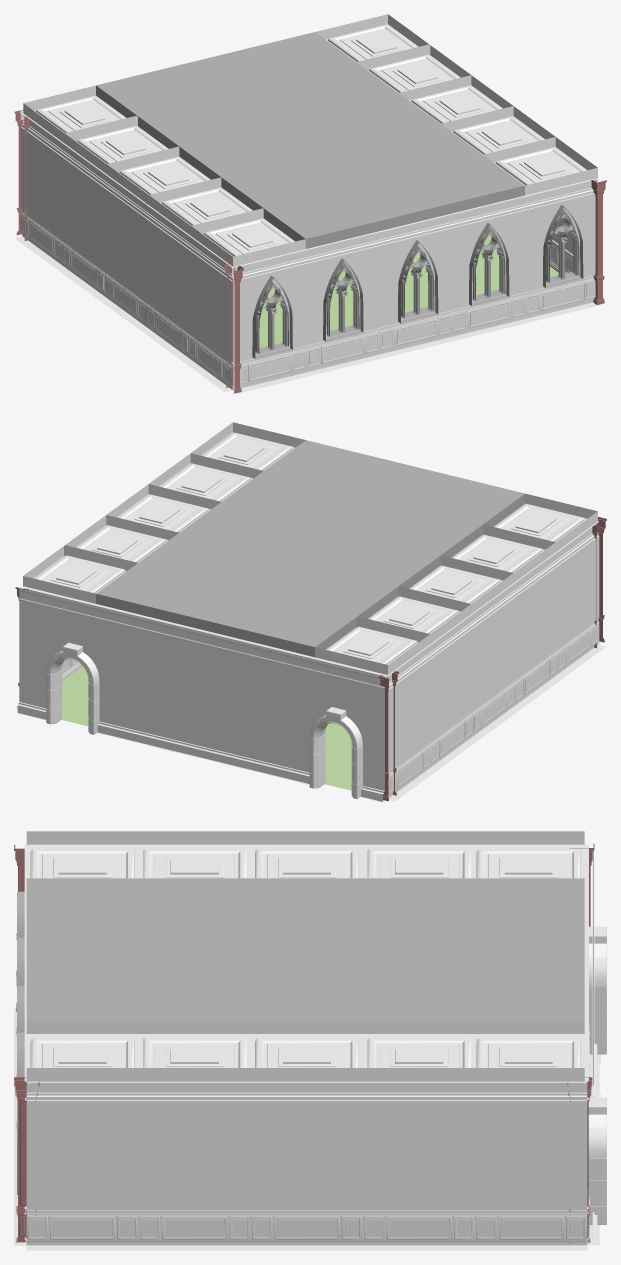
Rendered from CombinedClassroom.glb.
3 renders of one model, top to bottom at view 1: azimuth 30°, elevation 25°; view 2: azimuth 150°, elevation 25°; view 3: azimuth 270°, elevation 25°, orthographic. The views are drawn at different scales.
Parts seen in each view (by area): view 1: Classroom_Combined.001; view 2: Classroom_Combined.001; view 3: Classroom_Combined.001.
Boxes of the visible parts, <box> form: Classroom_Combined.001: <box>14,14,606,393</box>; Classroom_Combined.001: <box>14,422,606,802</box>; Classroom_Combined.001: <box>14,831,606,1250</box>.
Bounding box in the file's own units: 12.74 × 4.27 × 12.91.
